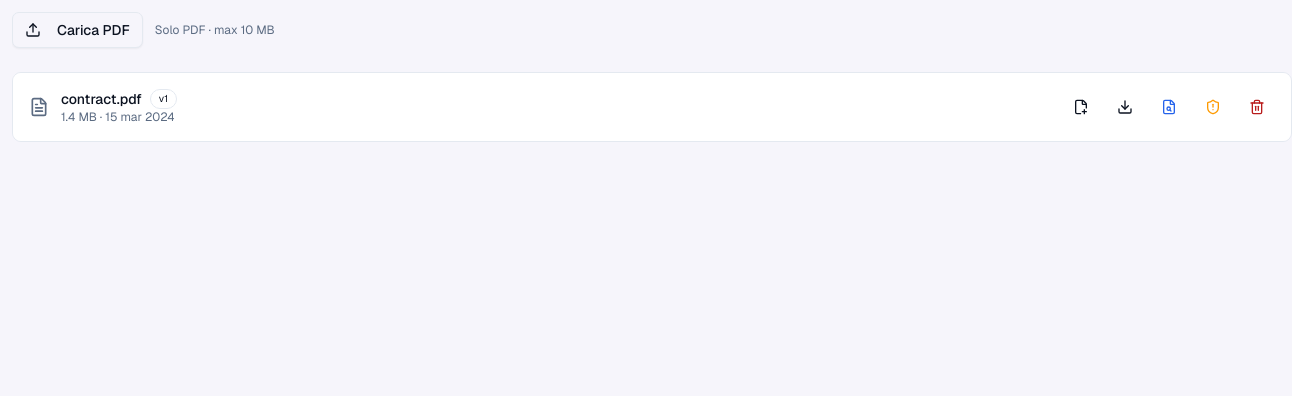
Test: DocumentsTab › collapses analysis panel when toggle button is clicked
Step 1. Click the button titled "Estrai campi" → (1169, 107), box x1=1151 y1=91 x2=1187 y2=123
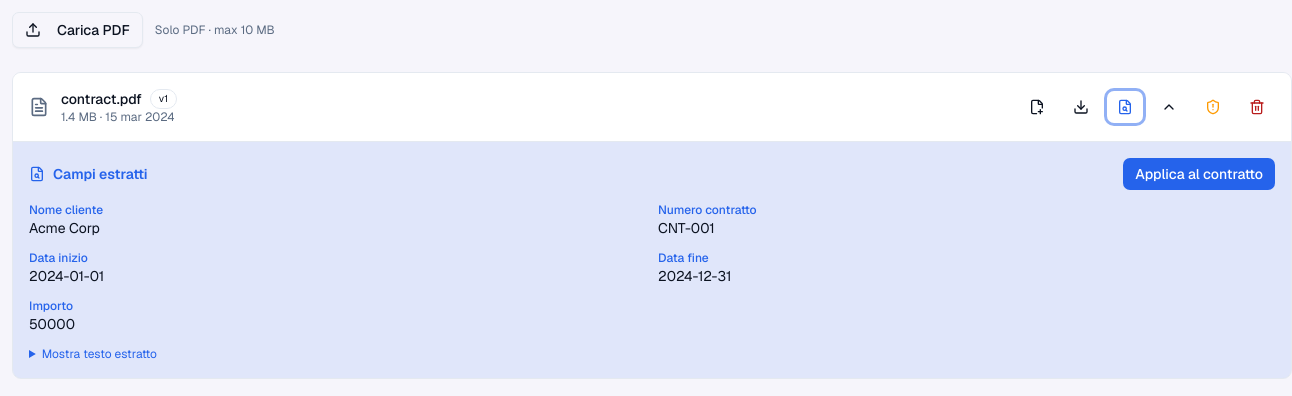
expect the button titled "Comprimi analisi" is shown: met
Step 2. Click the button titled "Comprimi analisi" → (1169, 107), box x1=1151 y1=91 x2=1187 y2=123
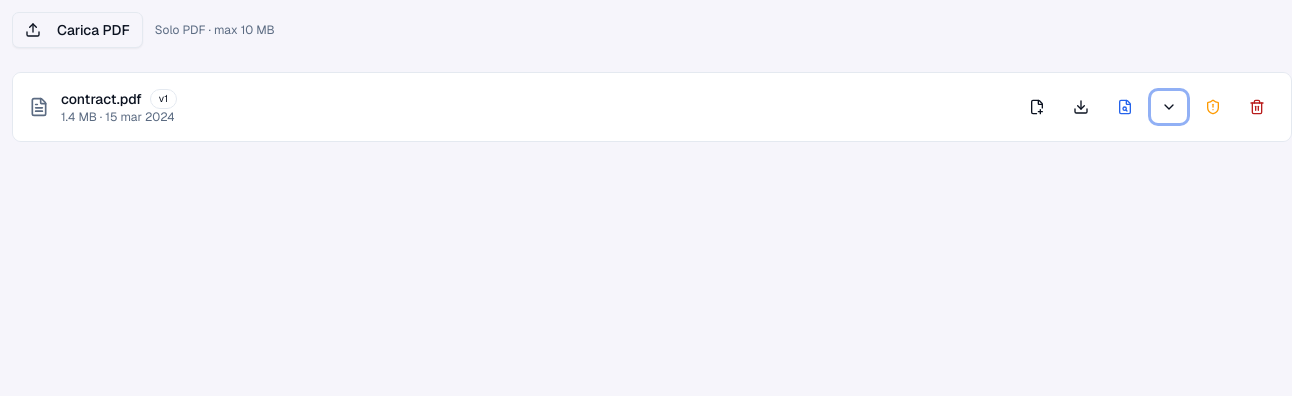
expect the heading "Campi estratti" is gone: met
Step 3. Click the button titled "Espandi analisi" → (1169, 107), box x1=1151 y1=91 x2=1187 y2=123
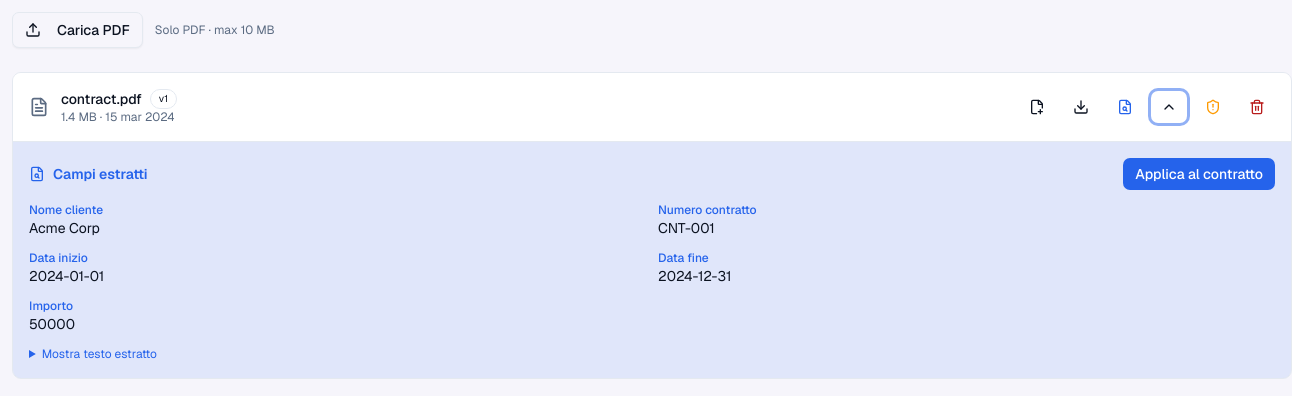
expect the heading "Campi estratti" is shown: met, box x1=29 y1=164 x2=148 y2=184
